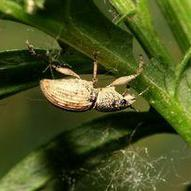weevils: (17, 30, 161, 136)
